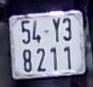1: (63, 45, 74, 71), (50, 46, 59, 73)
2: (36, 47, 48, 72)
3: (63, 16, 74, 43)
4: (31, 19, 44, 45)
5: (20, 18, 31, 46)
8: (21, 47, 35, 74)
y: (50, 16, 61, 43)
